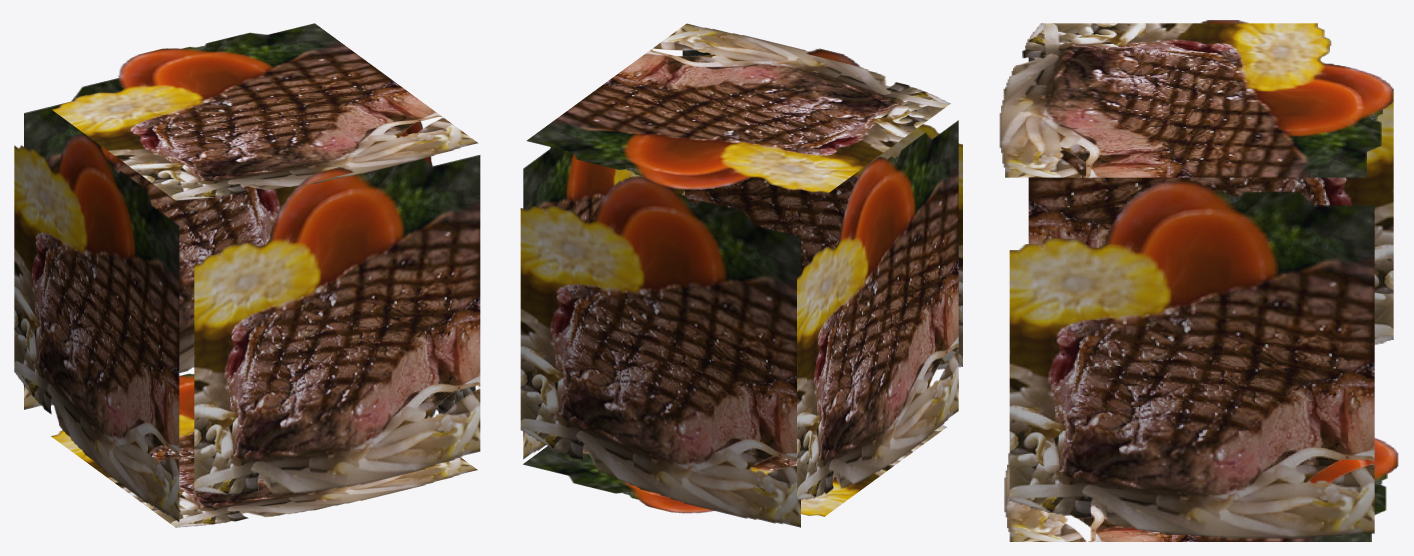
Rendered from DiceSteak.glb.
The picture shows the model from 3 angles, left to right: view 1: azimuth 30°, elevation 25°; view 2: azimuth 150°, elevation 25°; view 3: azimuth 270°, elevation 25°; orthographic projection. The views are drawn at different scales.
Parts seen in each view (by area): view 1: mesh_id32, mesh_id45, mesh_id63, mesh_id51, mesh_id69, mesh_id57; view 2: mesh_id51, mesh_id45, mesh_id63, mesh_id32, mesh_id69, mesh_id57; view 3: mesh_id57, mesh_id63, mesh_id45, mesh_id69.
Part boxes in pixels (<box>): mesh_id32: <box>194,155,480,495</box>; mesh_id45: <box>14,133,179,521</box>; mesh_id63: <box>51,23,478,200</box>; mesh_id51: <box>24,78,298,409</box>; mesh_id69: <box>51,373,477,527</box>; mesh_id57: <box>365,121,475,417</box>; mesh_id51: <box>520,176,800,527</box>; mesh_id45: <box>797,120,958,500</box>; mesh_id63: <box>526,23,950,193</box>; mesh_id32: <box>682,48,962,369</box>; mesh_id69: <box>523,425,946,516</box>; mesh_id57: <box>523,147,684,459</box>; mesh_id57: <box>1009,181,1374,538</box>; mesh_id63: <box>999,23,1393,177</box>; mesh_id45: <box>1028,20,1393,344</box>; mesh_id69: <box>1004,438,1398,541</box>.
Bounding box in the file's own units: 0.2792 × 0.3102 × 0.3015.
6 materials, 6 textured.
